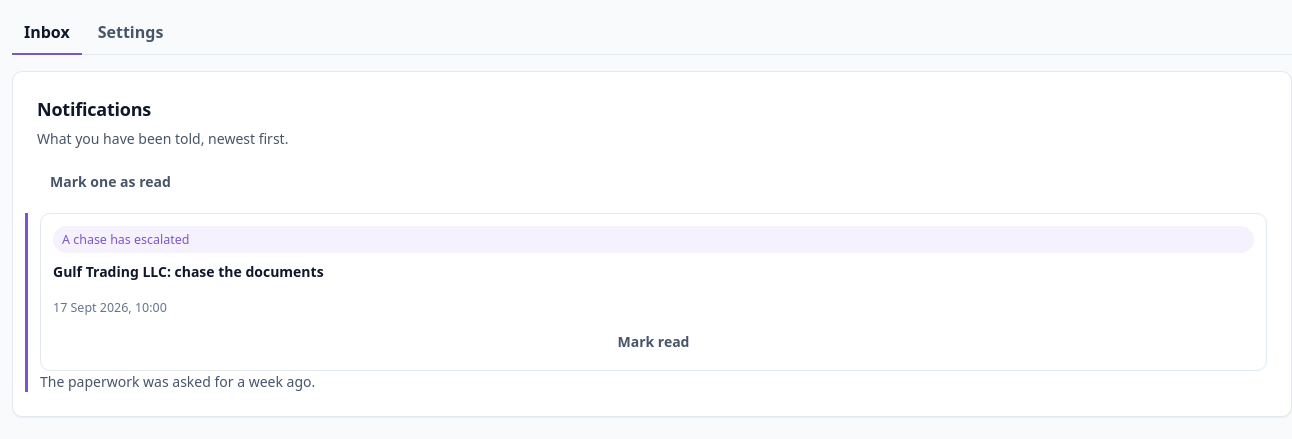
what somebody has been told (FR-43) › lists every kind of notification, chosen or not
What coordinates should you click on to do the following:
click the button "Settings"
I would click on:
 (130, 33)
Its box is [86, 12, 175, 55].
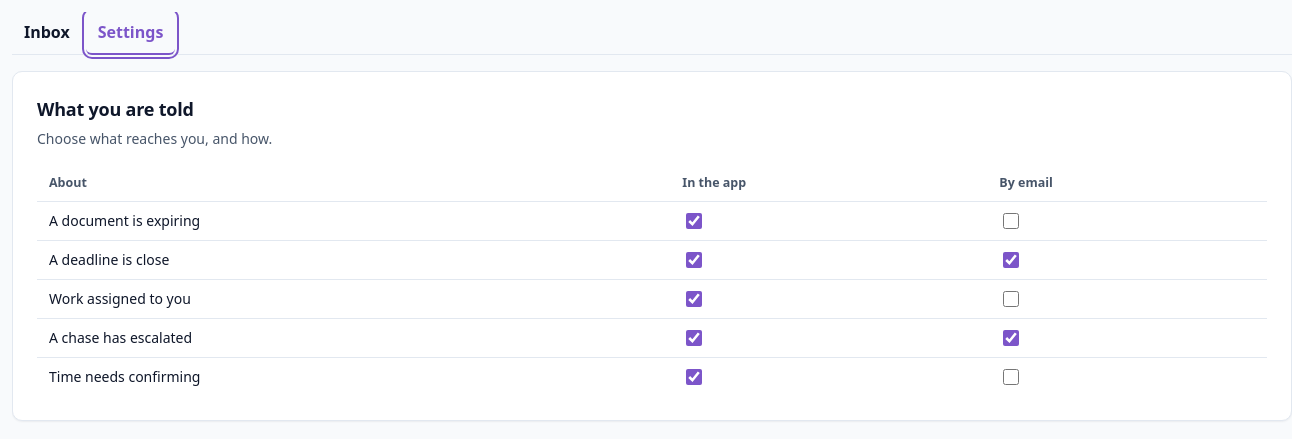
Expected: the text "A chase has escalated" is shown, [37, 318, 670, 357]
Expected: the text "A document is expiring" is shown, [37, 201, 670, 240]
Expected: the number of rows is 6, [37, 165, 1267, 201]; [37, 201, 1267, 240]; [37, 240, 1267, 279]; [37, 279, 1267, 318]; [37, 318, 1267, 357]; [37, 357, 1267, 396]
